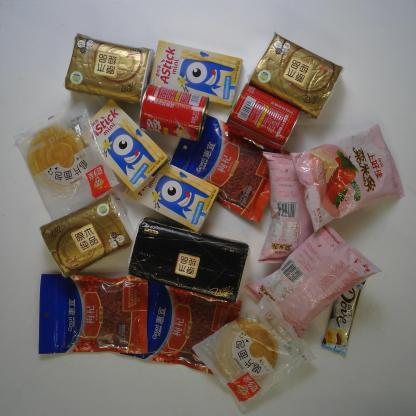Canned Food: (225, 82, 302, 152), (138, 82, 210, 142)
Chocolate: (320, 278, 367, 356)
Dessert: (191, 291, 317, 414), (12, 96, 122, 221), (81, 96, 172, 195), (122, 162, 220, 233), (149, 39, 244, 109)
Dried Fruit: (171, 114, 291, 224), (118, 277, 244, 376), (36, 273, 150, 356)
Puffed Food: (243, 223, 383, 339), (289, 122, 406, 233), (256, 152, 314, 264)
Tissue: (125, 215, 251, 305), (247, 30, 345, 122), (38, 192, 135, 279), (63, 32, 156, 106)
